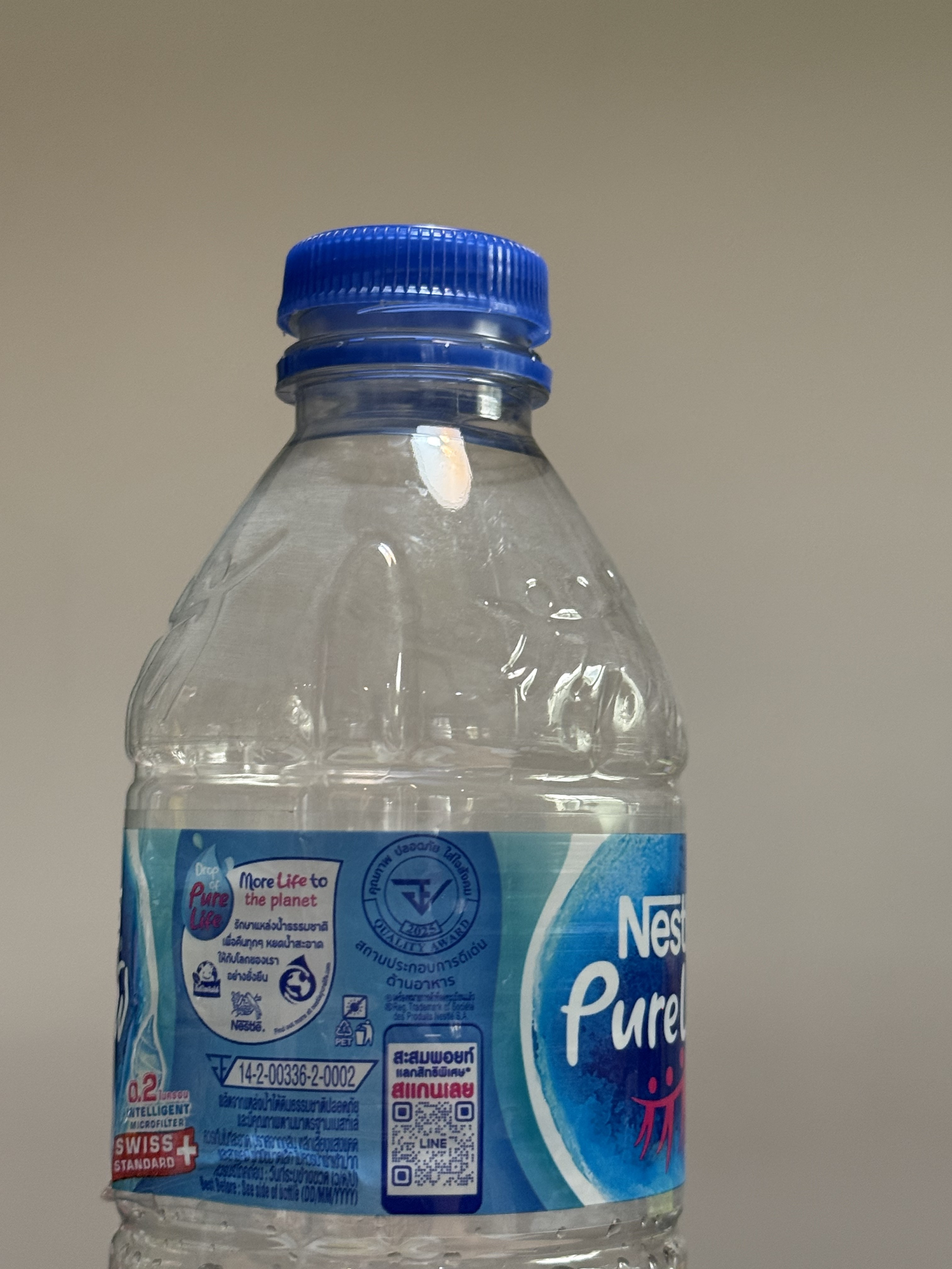half_cap: (268, 216, 558, 406)
